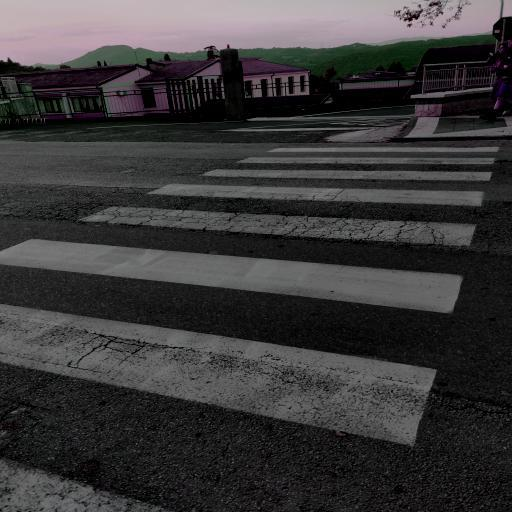crosswalk: (58, 182, 498, 249), (228, 140, 510, 168)
